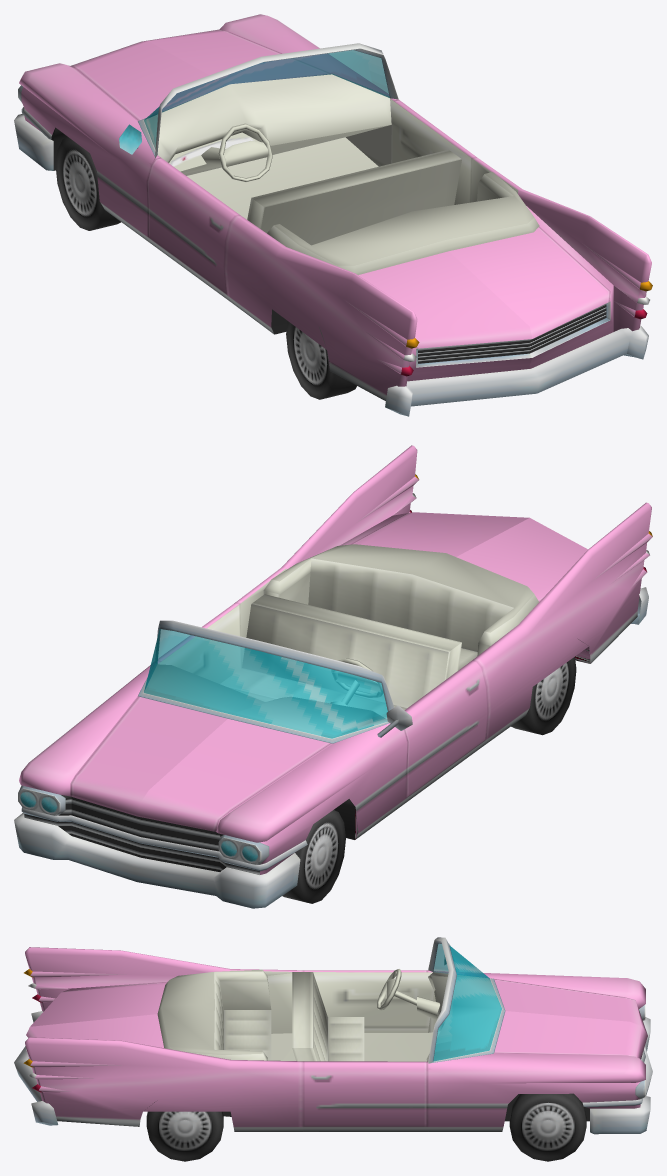
File: pc___computer_-_the_simpsons__hit__run_-_vehicl.glb
3 views of the same model, one above another, from view 1: azimuth 30°, elevation 25°; view 2: azimuth 150°, elevation 25°; view 3: azimuth 270°, elevation 25° (orthographic). The views are drawn at different scales.
Parts seen in each view (by area): view 1: Object_3, Object_2; view 2: Object_3, Object_2; view 3: Object_3, Object_2.
Boxes of the visible parts, <box> form: Object_3: <box>14,14,652,416</box>; Object_2: <box>144,50,389,149</box>; Object_3: <box>14,445,652,908</box>; Object_2: <box>144,629,387,738</box>; Object_3: <box>14,937,652,1161</box>; Object_2: <box>433,943,501,1061</box>.
Size of the model in its own units: 2.48 by 1.58 by 6.27.
2 materials, 2 textured.
